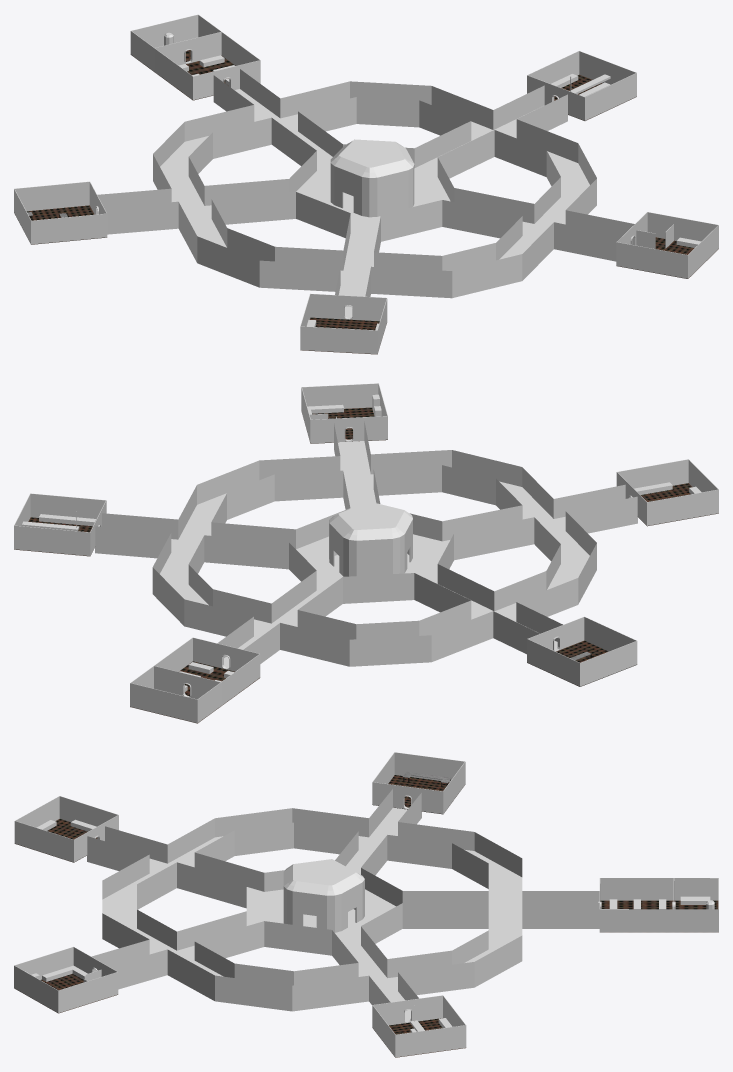
File: Mapa 1.fbx
The picture shows the model from 3 angles, top to bottom: view 1: azimuth 30°, elevation 25°; view 2: azimuth 150°, elevation 25°; view 3: azimuth 270°, elevation 25°; orthographic projection. The views are drawn at different scales.
Parts seen in each view (by area): view 1: Corridor_walls, Floor, Wall.015, Center, Wall.001, Wall.009, Wall, Wall.004, Wall.005, Floor.003, Floor.001; view 2: Corridor_walls, Floor, Wall.015, Center, Wall, Wall.009, Wall.001, Wall.002, Wall.005, Wall.003, Wall.004, Floor.003 (+3 smaller); view 3: Corridor_walls, Floor, Wall.015, Center, Wall.001, Wall.009, Wall, Wall.002, Wall.003, Floor.005, Floor.003, Wall.005 (+2 smaller).
Boxes of the visible parts, x1,y1,x2,y2 form: Corridor_walls: (97, 69, 634, 296); Floor: (107, 89, 616, 317); Wall.015: (130, 14, 260, 99); Center: (330, 139, 414, 217); Wall.001: (616, 212, 718, 278); Wall.009: (527, 51, 636, 120); Wall: (300, 293, 387, 354); Wall.004: (31, 213, 106, 244); Wall.005: (15, 181, 89, 211); Floor.003: (15, 205, 106, 244); Floor.001: (300, 317, 379, 354); Corridor_walls: (95, 421, 637, 659); Floor: (95, 441, 637, 667); Wall.015: (130, 637, 260, 722); Center: (329, 501, 412, 576); Wall: (616, 459, 718, 525); Wall.009: (14, 493, 106, 555); Wall.001: (301, 383, 387, 443); Wall.002: (579, 641, 637, 686); Wall.005: (527, 639, 579, 686); Wall.003: (527, 616, 584, 662); Wall.004: (584, 617, 636, 651); Floor.003: (527, 640, 636, 686); Corridor_walls: (87, 789, 599, 1004); Floor: (87, 807, 599, 1021); Wall.015: (599, 878, 718, 931); Center: (283, 859, 364, 932); Wall.001: (14, 946, 118, 1012); Wall.009: (372, 995, 466, 1057); Wall: (14, 796, 118, 862); Wall.002: (394, 752, 465, 783); Wall.003: (372, 782, 443, 813); Floor.005: (600, 900, 718, 932); Floor.003: (372, 775, 465, 814); Wall.005: (443, 762, 465, 813).
Size of the model in its own units: 8 by 0.6677 by 8.44.
12 materials, 4 textured.
